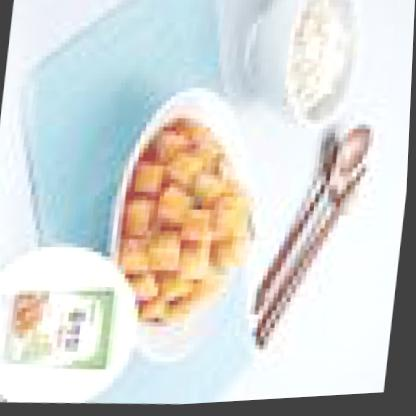radish Kimchi: (104, 116, 269, 341)
rice ball: (282, 0, 365, 123)
